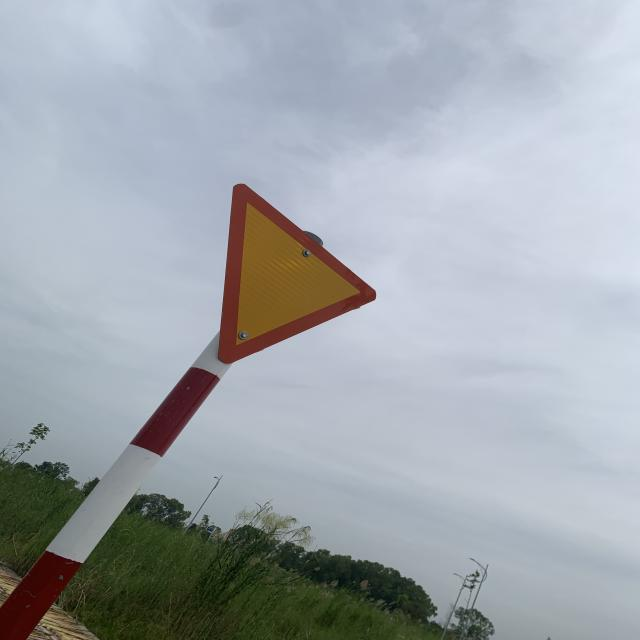Gioi_Han_Toc_Do_25: (219, 183, 377, 362)
